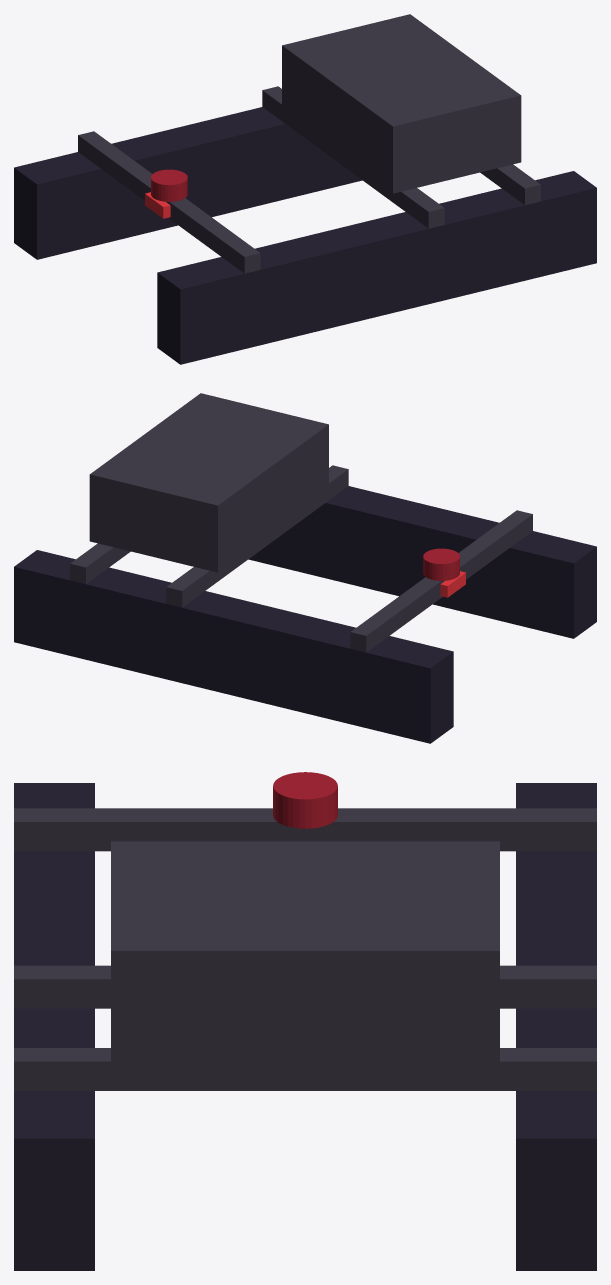
Rendered from dual_thruster_boat.fbx.
3 renders of one model, top to bottom at view 1: azimuth 30°, elevation 25°; view 2: azimuth 150°, elevation 25°; view 3: azimuth 270°, elevation 25°, orthographic. The views are drawn at different scales.
Visible parts, largest first — view 1: dual_thruster_boat; view 2: dual_thruster_boat; view 3: dual_thruster_boat.
Part boxes in pixels (<box>): dual_thruster_boat: <box>14,14,596,364</box>; dual_thruster_boat: <box>14,393,596,743</box>; dual_thruster_boat: <box>14,772,596,1270</box>.
Bounding box in the file's own units: 90 × 130 × 47.5.
